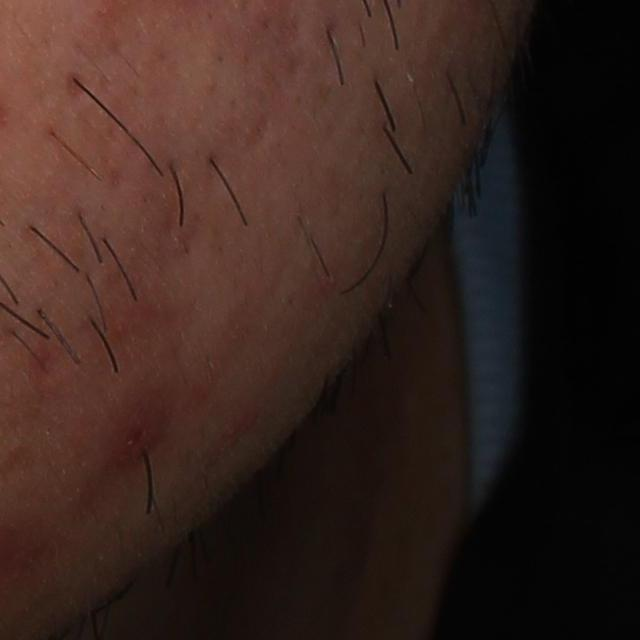papule: (110, 420, 162, 468)
